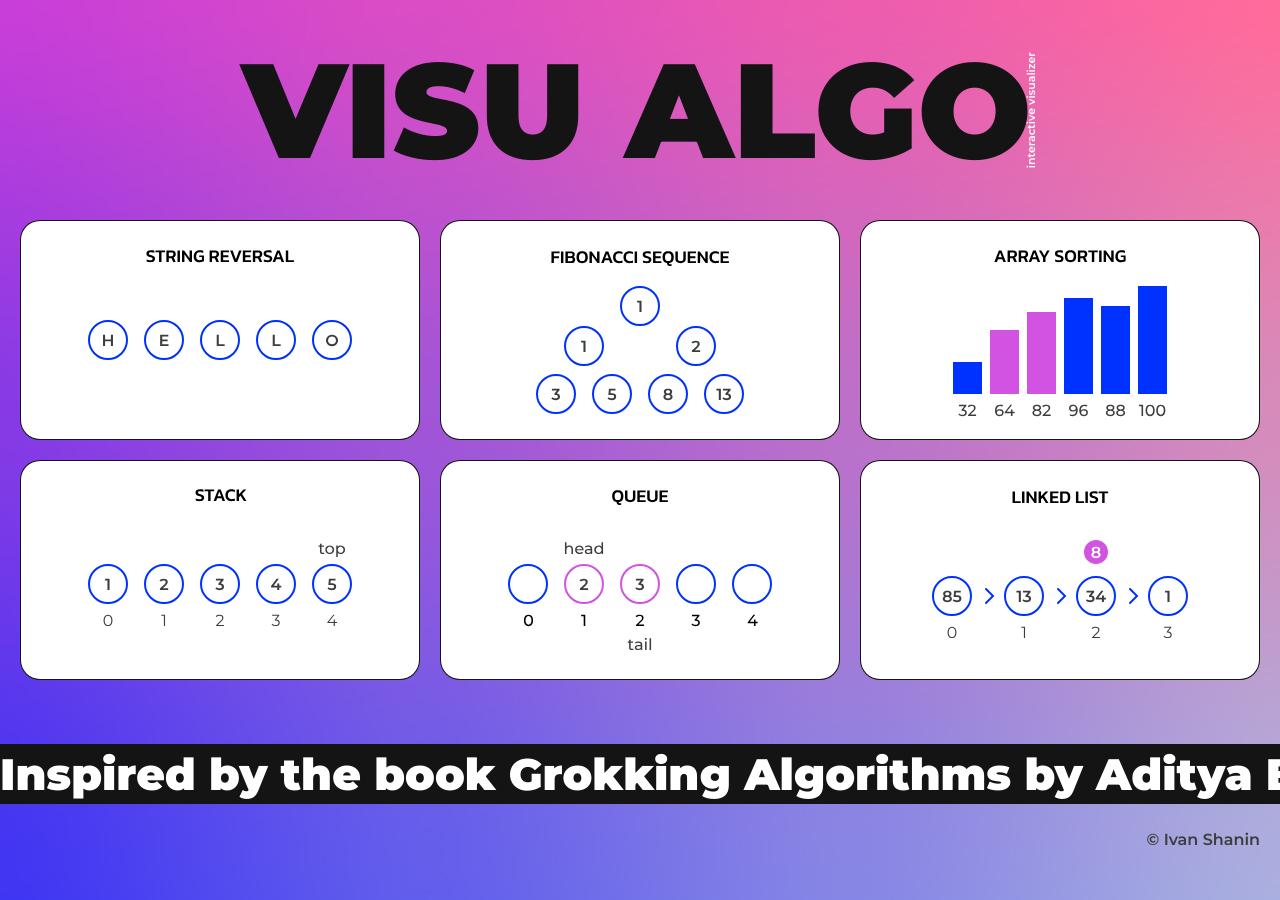
Test case: App routing tests › renders app component and navigates to stack page
Click the link with test id "stack-page-link" at (220, 570), box [20, 460, 420, 680]
(page scrolled)
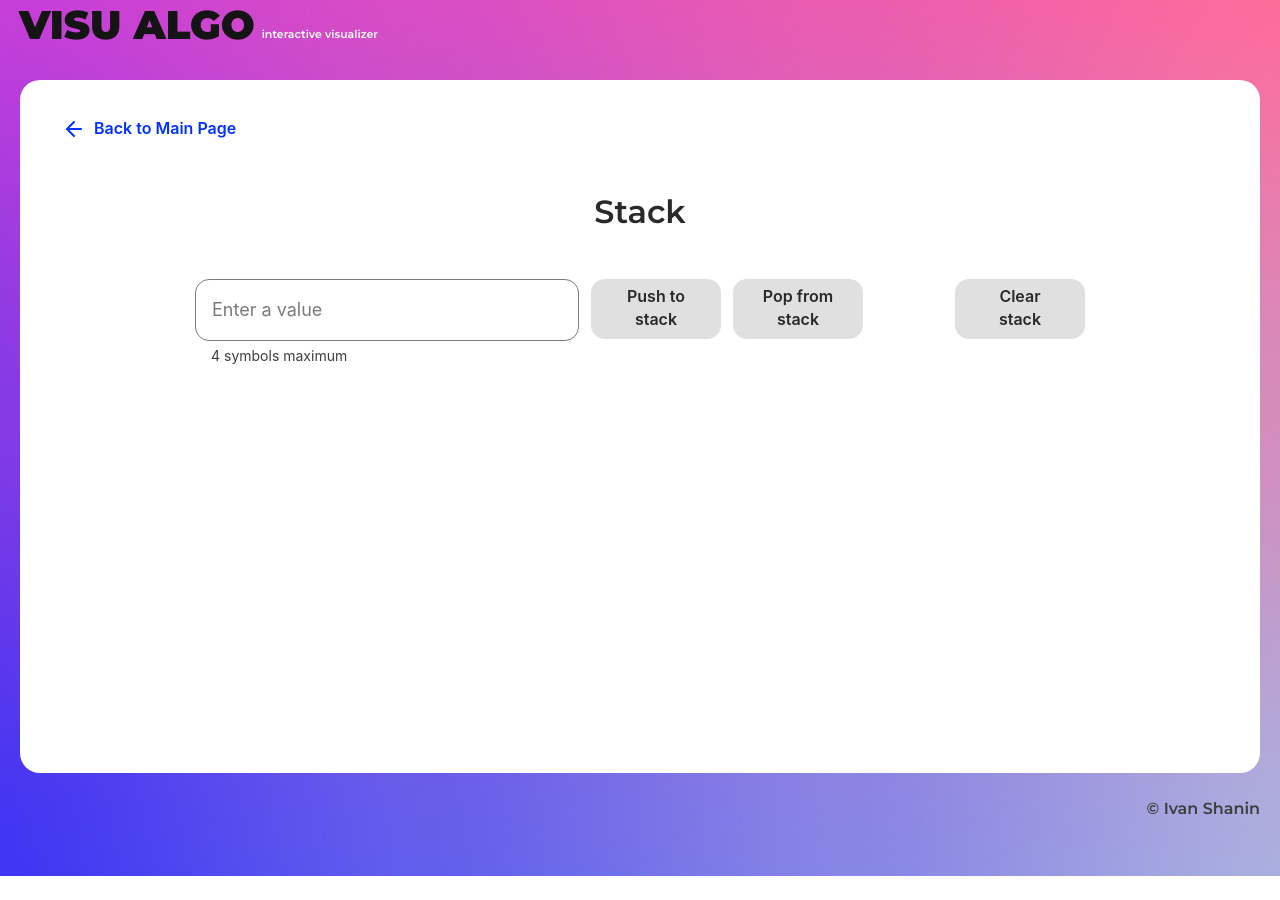
Expected: the element with test id "stack-page" is shown, [195, 278, 1085, 364]
